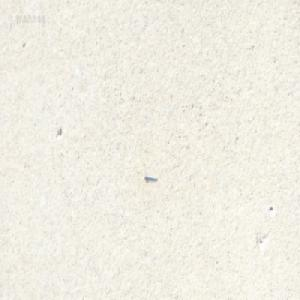Nail: (144, 172, 156, 180)
